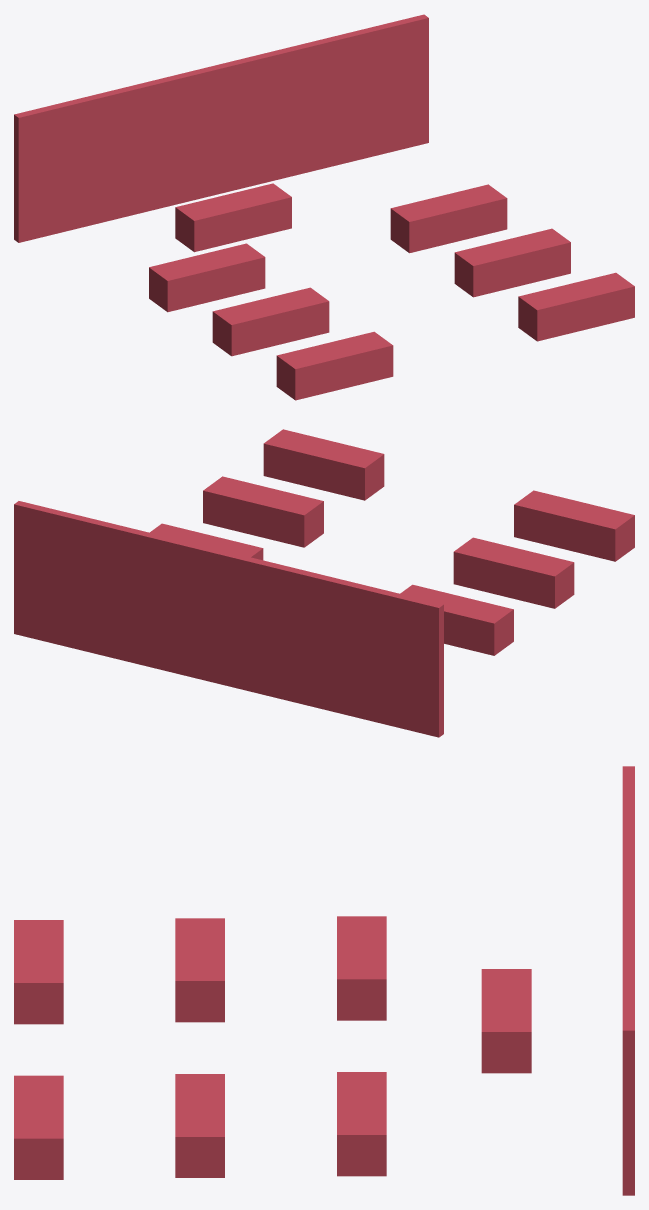
The model's file is Test_01-Da1pXXTL.glb.
The picture shows the model from 3 angles, top to bottom: view 1: azimuth 30°, elevation 25°; view 2: azimuth 150°, elevation 25°; view 3: azimuth 270°, elevation 25°; orthographic projection. The views are drawn at different scales.
Visible parts, largest first — view 1: Mesh_Mesh_head_geo.001_lambert2SG.001; view 2: Mesh_Mesh_head_geo.001_lambert2SG.001; view 3: Mesh_Mesh_head_geo.001_lambert2SG.001.
Boxes of the visible parts, <box> form: Mesh_Mesh_head_geo.001_lambert2SG.001: <box>14,14,634,400</box>; Mesh_Mesh_head_geo.001_lambert2SG.001: <box>14,429,634,737</box>; Mesh_Mesh_head_geo.001_lambert2SG.001: <box>14,766,634,1195</box>.
Size of the model in its own units: 0.151 by 0.044 by 0.15.
